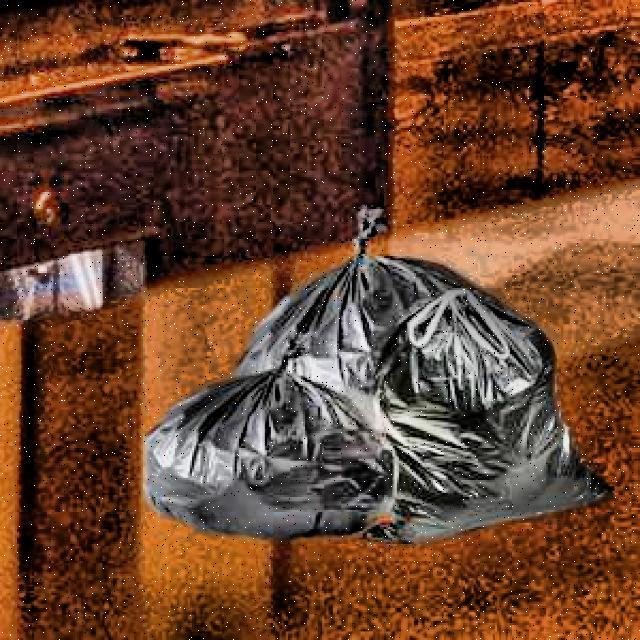Trashbag: (383, 292, 629, 530), (118, 354, 384, 564), (244, 209, 430, 346)
